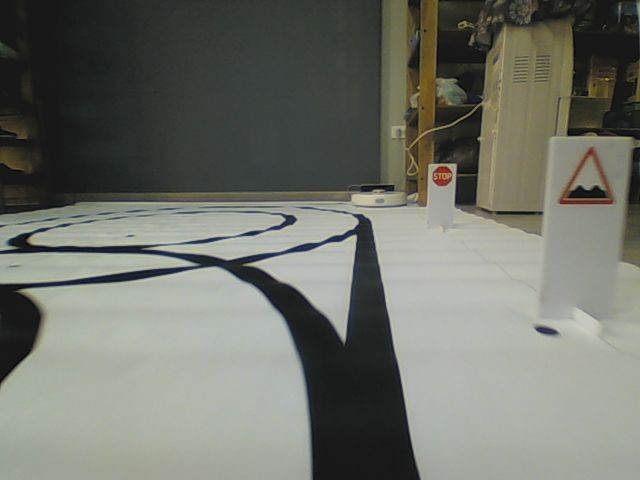Stop: (432, 164, 453, 187)
